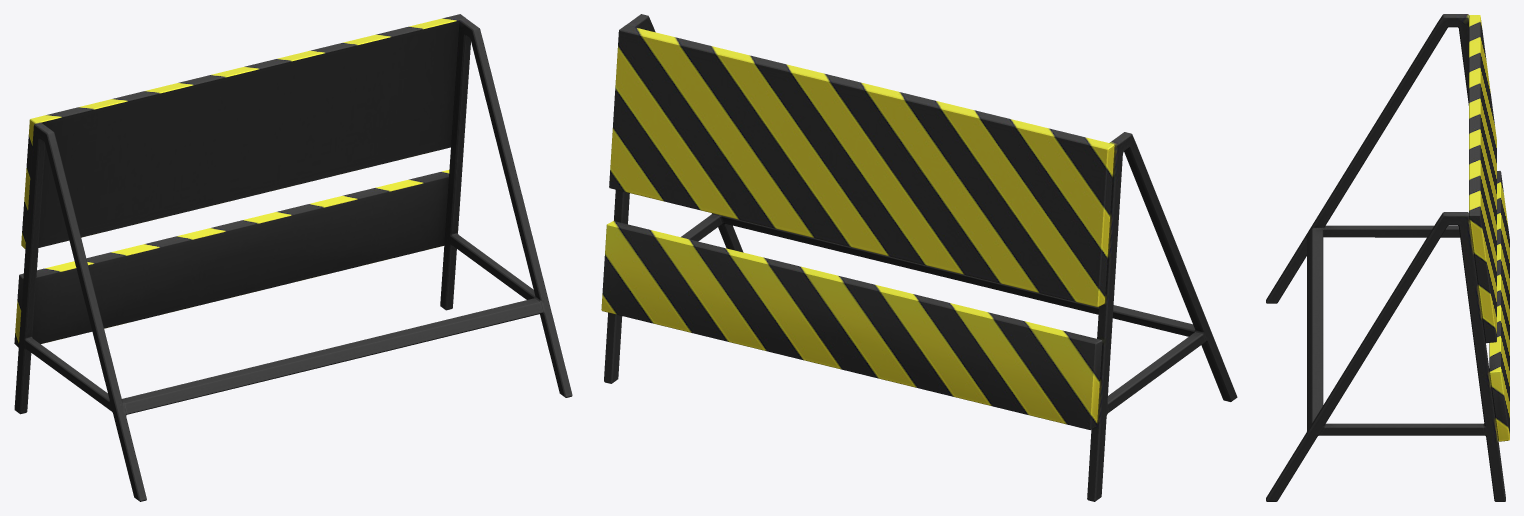
File: Construction.fbx
3 renders of one model, left to right at view 1: azimuth 30°, elevation 25°; view 2: azimuth 150°, elevation 25°; view 3: azimuth 270°, elevation 25°, orthographic. The views are drawn at different scales.
Parts seen in each view (by area): view 1: Construction; view 2: Construction; view 3: Construction.
Part boxes in pixels (x1,y1,x2,y2): Construction: (14,14,572,501); Construction: (601,14,1237,501); Construction: (1266,14,1509,501).
Bounding box in the file's own units: 1.51 × 1 × 0.7704.
